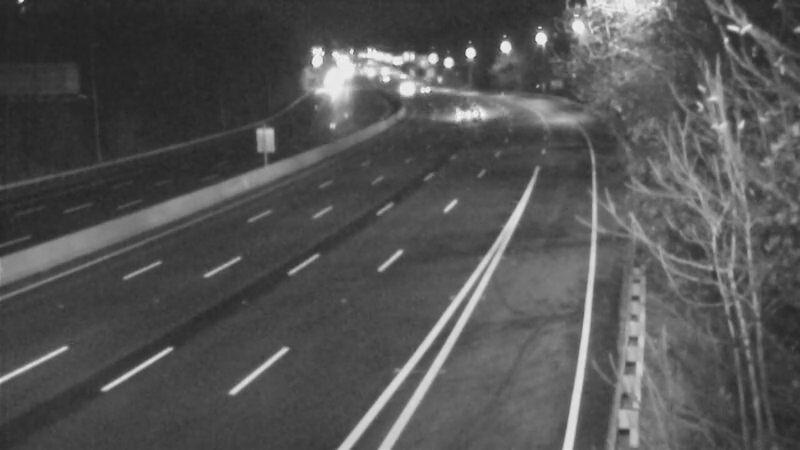vehicle: (379, 59, 429, 109), (402, 65, 452, 115), (431, 82, 481, 132)
